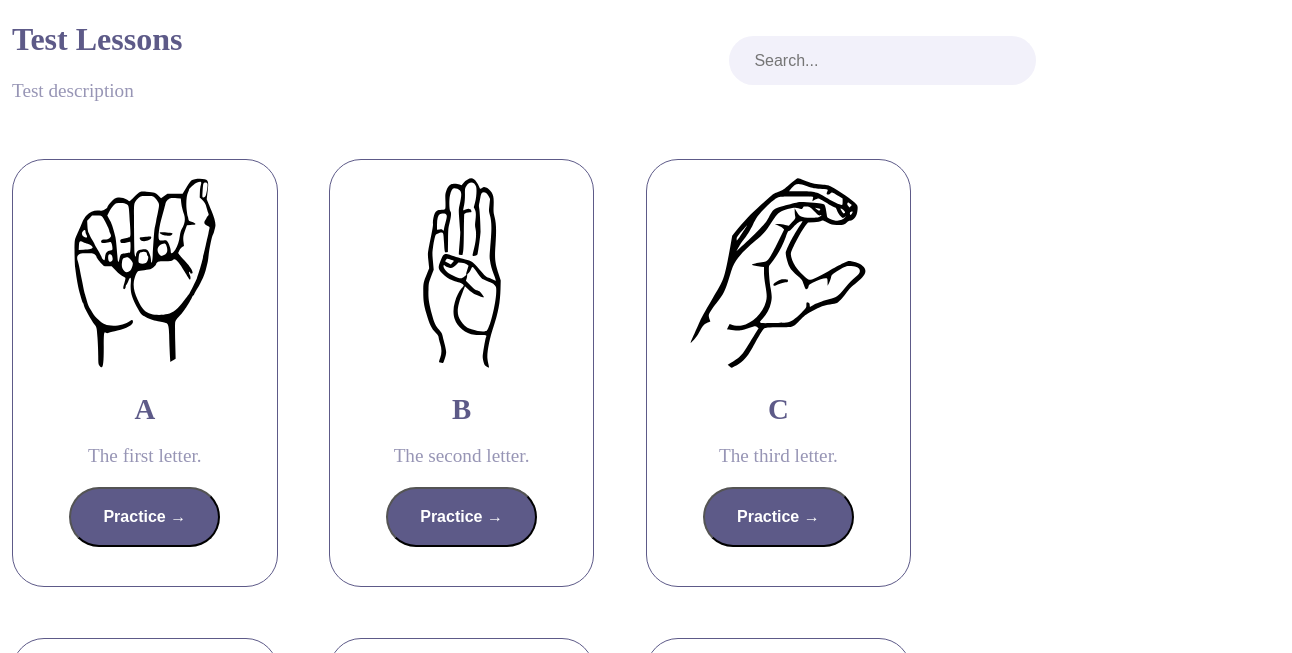
Test: LessonLayout Component › filters the lesson cards correctly when a user types in the search bar
Expected: the heading "A" is shown, [134,393,155,426]
Expected: the heading "B" is shown, [452,393,471,426]
// find searchbar and simulate typing "A"
Type "A" into the field with placeholder "Search..." at (882, 60), box [729,36,1036,85]
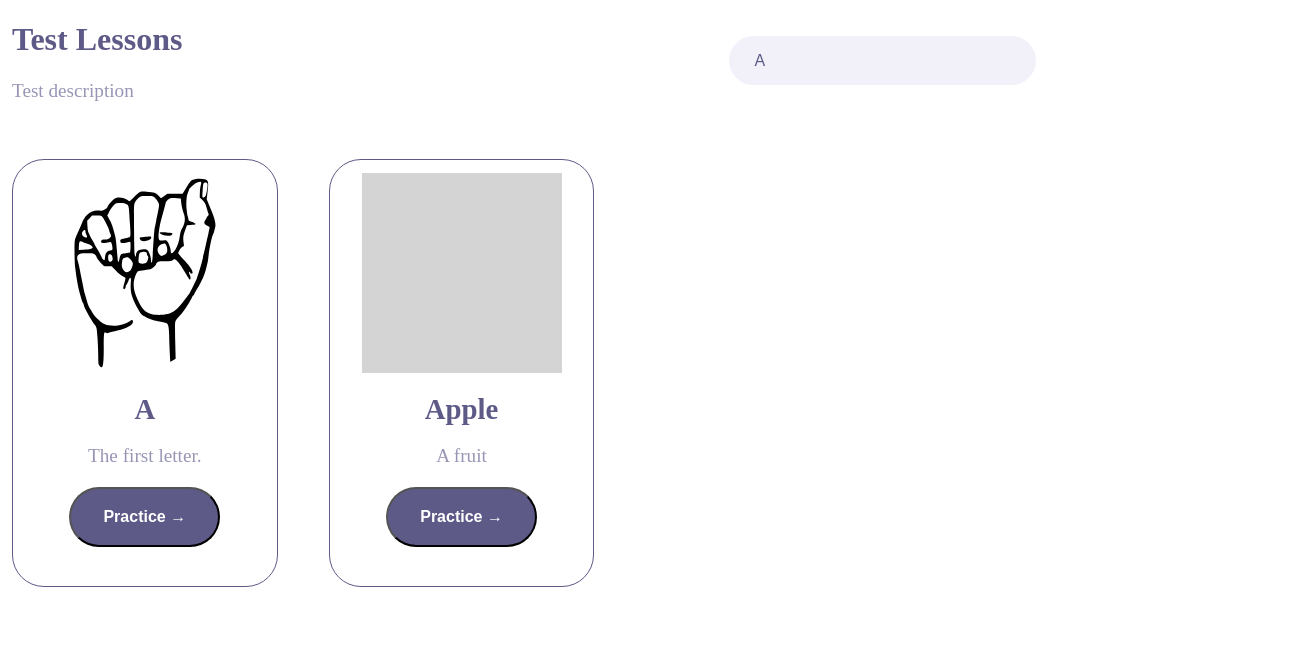
Expected: the heading "A" is shown, [134,393,155,426]
Result: the heading "Apple" is shown at [425,393,498,426]
